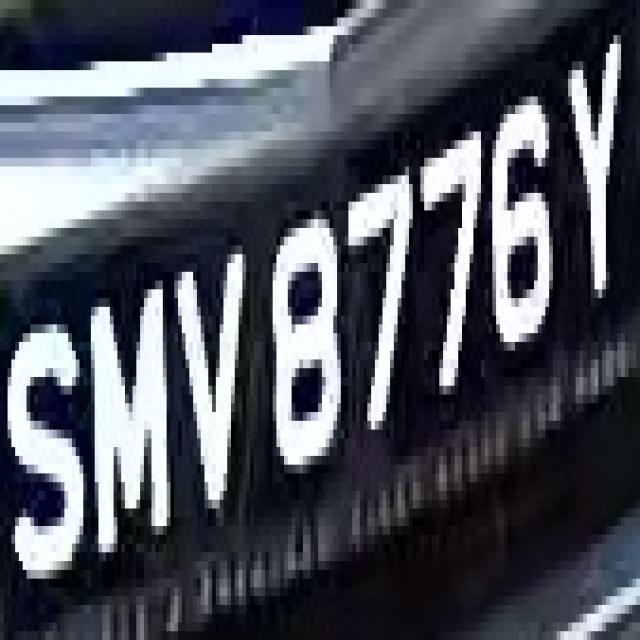6: (492, 70, 557, 360)
7: (337, 132, 417, 447), (406, 123, 492, 394)
8: (254, 210, 352, 482)
M: (84, 263, 174, 579)
S: (11, 298, 91, 579)
V: (163, 219, 254, 535)
Y: (553, 17, 632, 307)
